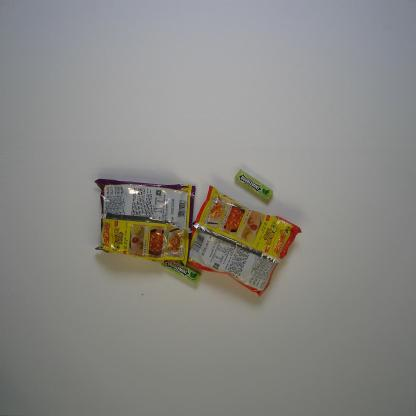Gum: (234, 167, 273, 203), (159, 258, 202, 286)
Instant Noodles: (185, 184, 302, 300), (93, 177, 197, 268)
